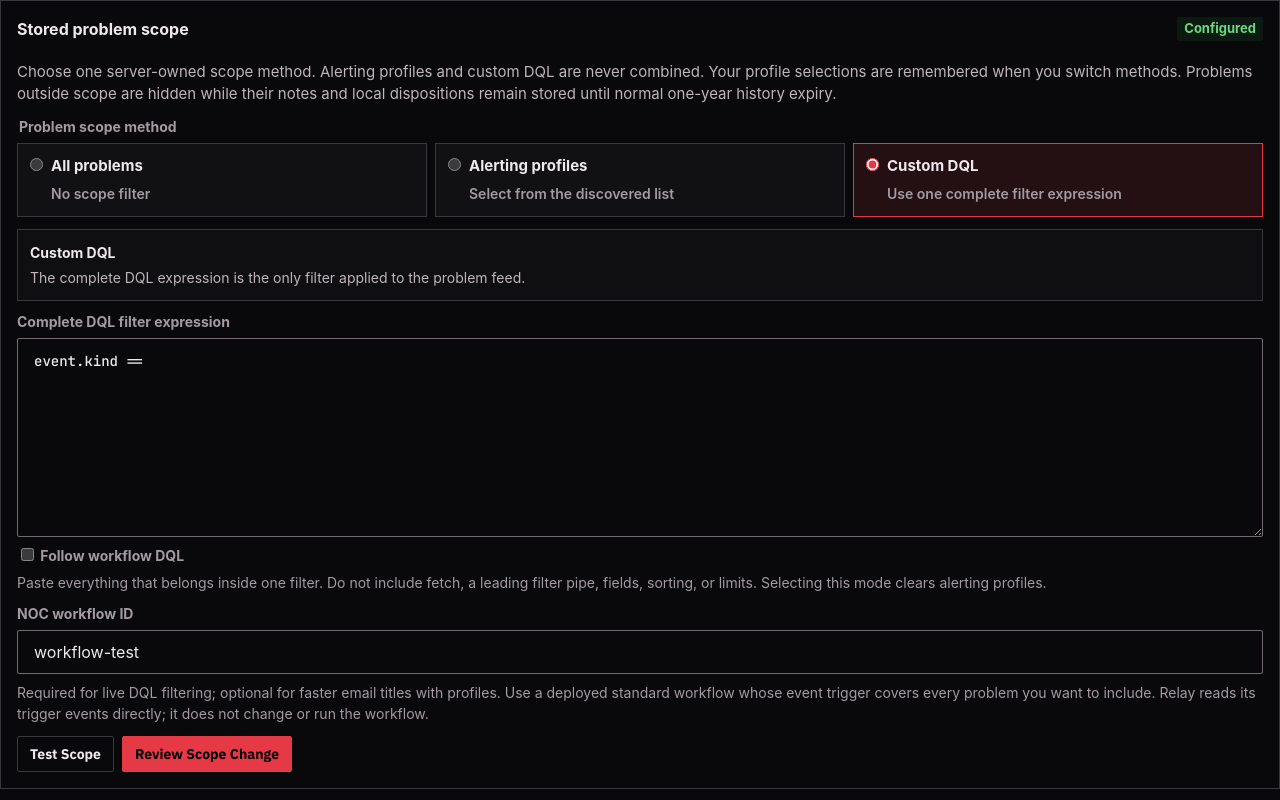
Scenario: DynatraceProblemScopeEditor › marks the DQL field invalid and describes it by the failed scope test
Click the button "Review Scope Change" at (207, 754), box [122,736,292,772]
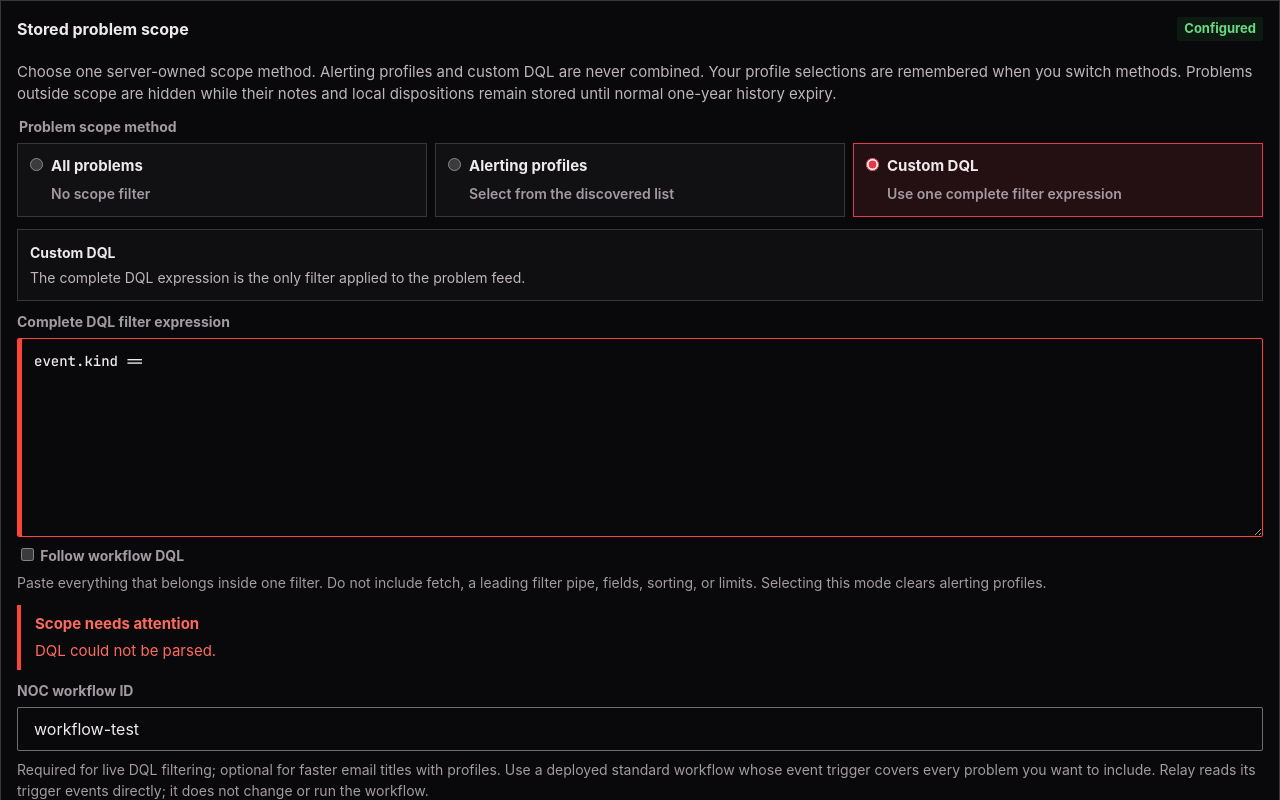
Now the message shows "DQL could not be parsed.", box [35,640,216,660]
